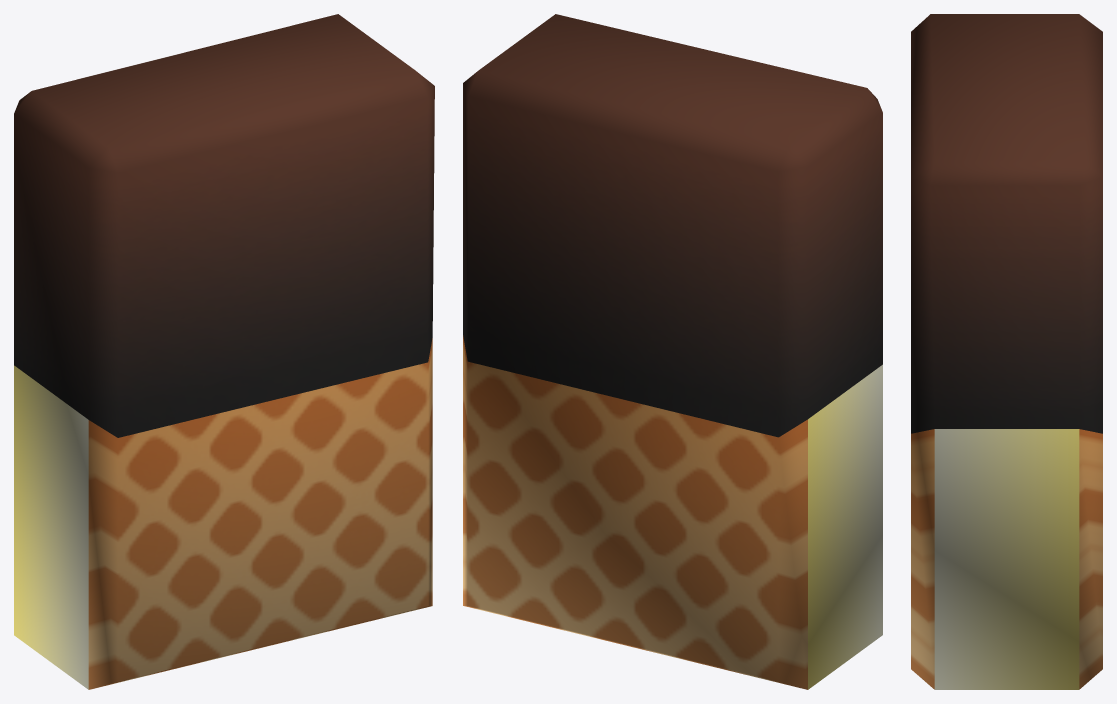
Rendered from m_SandwichIceCream03.fbx.
3 renders of one model, left to right at view 1: azimuth 30°, elevation 25°; view 2: azimuth 150°, elevation 25°; view 3: azimuth 270°, elevation 25°, orthographic. The views are drawn at different scales.
Visible parts, largest first — view 1: m_SandwichIceCream03; view 2: m_SandwichIceCream03; view 3: m_SandwichIceCream03.
Boxes of the visible parts, x1,y1,x2,y2 form: m_SandwichIceCream03: [14, 14, 434, 689]; m_SandwichIceCream03: [463, 14, 882, 689]; m_SandwichIceCream03: [911, 14, 1102, 689].
Bounding box in the file's own units: 9.6 × 14.4 × 4.8.
